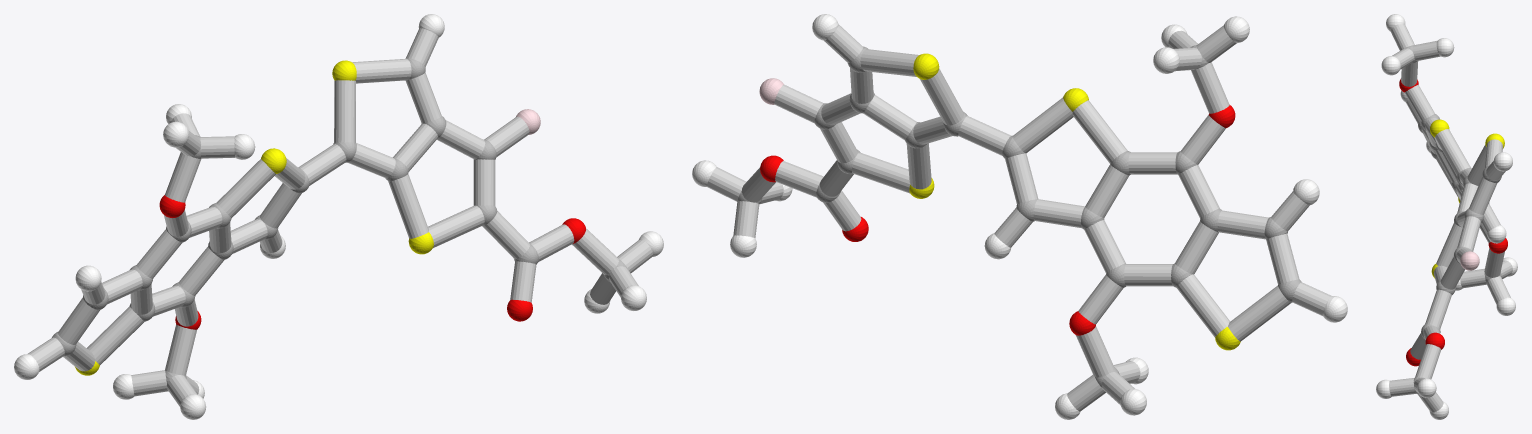
The model's file is color.glb.
3 views of the same model, side by side, from view 1: azimuth 30°, elevation 25°; view 2: azimuth 150°, elevation 25°; view 3: azimuth 270°, elevation 25° (orthographic). The views are drawn at different scales.
Parts seen in each view (by area): view 1: grp15205, grp8689, grp1, grp7241, grp13395; view 2: grp15205, grp8689, grp1, grp7241, grp13395; view 3: grp15205, grp8689, grp1, grp13395, grp7241, grp14843.
Part boxes in pixels (left/top/right/bottom): grp15205: left=28, top=28, right=653, bottom=406; grp8689: left=14, top=14, right=663, bottom=419; grp1: left=52, top=57, right=626, bottom=391; grp7241: left=75, top=60, right=433, bottom=375; grp13395: left=159, top=195, right=585, bottom=329; grp15205: left=707, top=24, right=1331, bottom=411; grp8689: left=692, top=14, right=1347, bottom=419; grp1: left=737, top=45, right=1301, bottom=386; grp7241: left=909, top=53, right=1240, bottom=350; grp13395: left=760, top=105, right=1235, bottom=335; grp15205: left=1389, top=24, right=1512, bottom=412; grp8689: left=1376, top=14, right=1517, bottom=419; grp1: left=1405, top=45, right=1501, bottom=394; grp13395: left=1399, top=79, right=1507, bottom=366; grp7241: left=1430, top=119, right=1504, bottom=278; grp14843: left=1460, top=251, right=1479, bottom=270.
Size of the model in its own units: 16.99 by 9.07 by 4.36.
